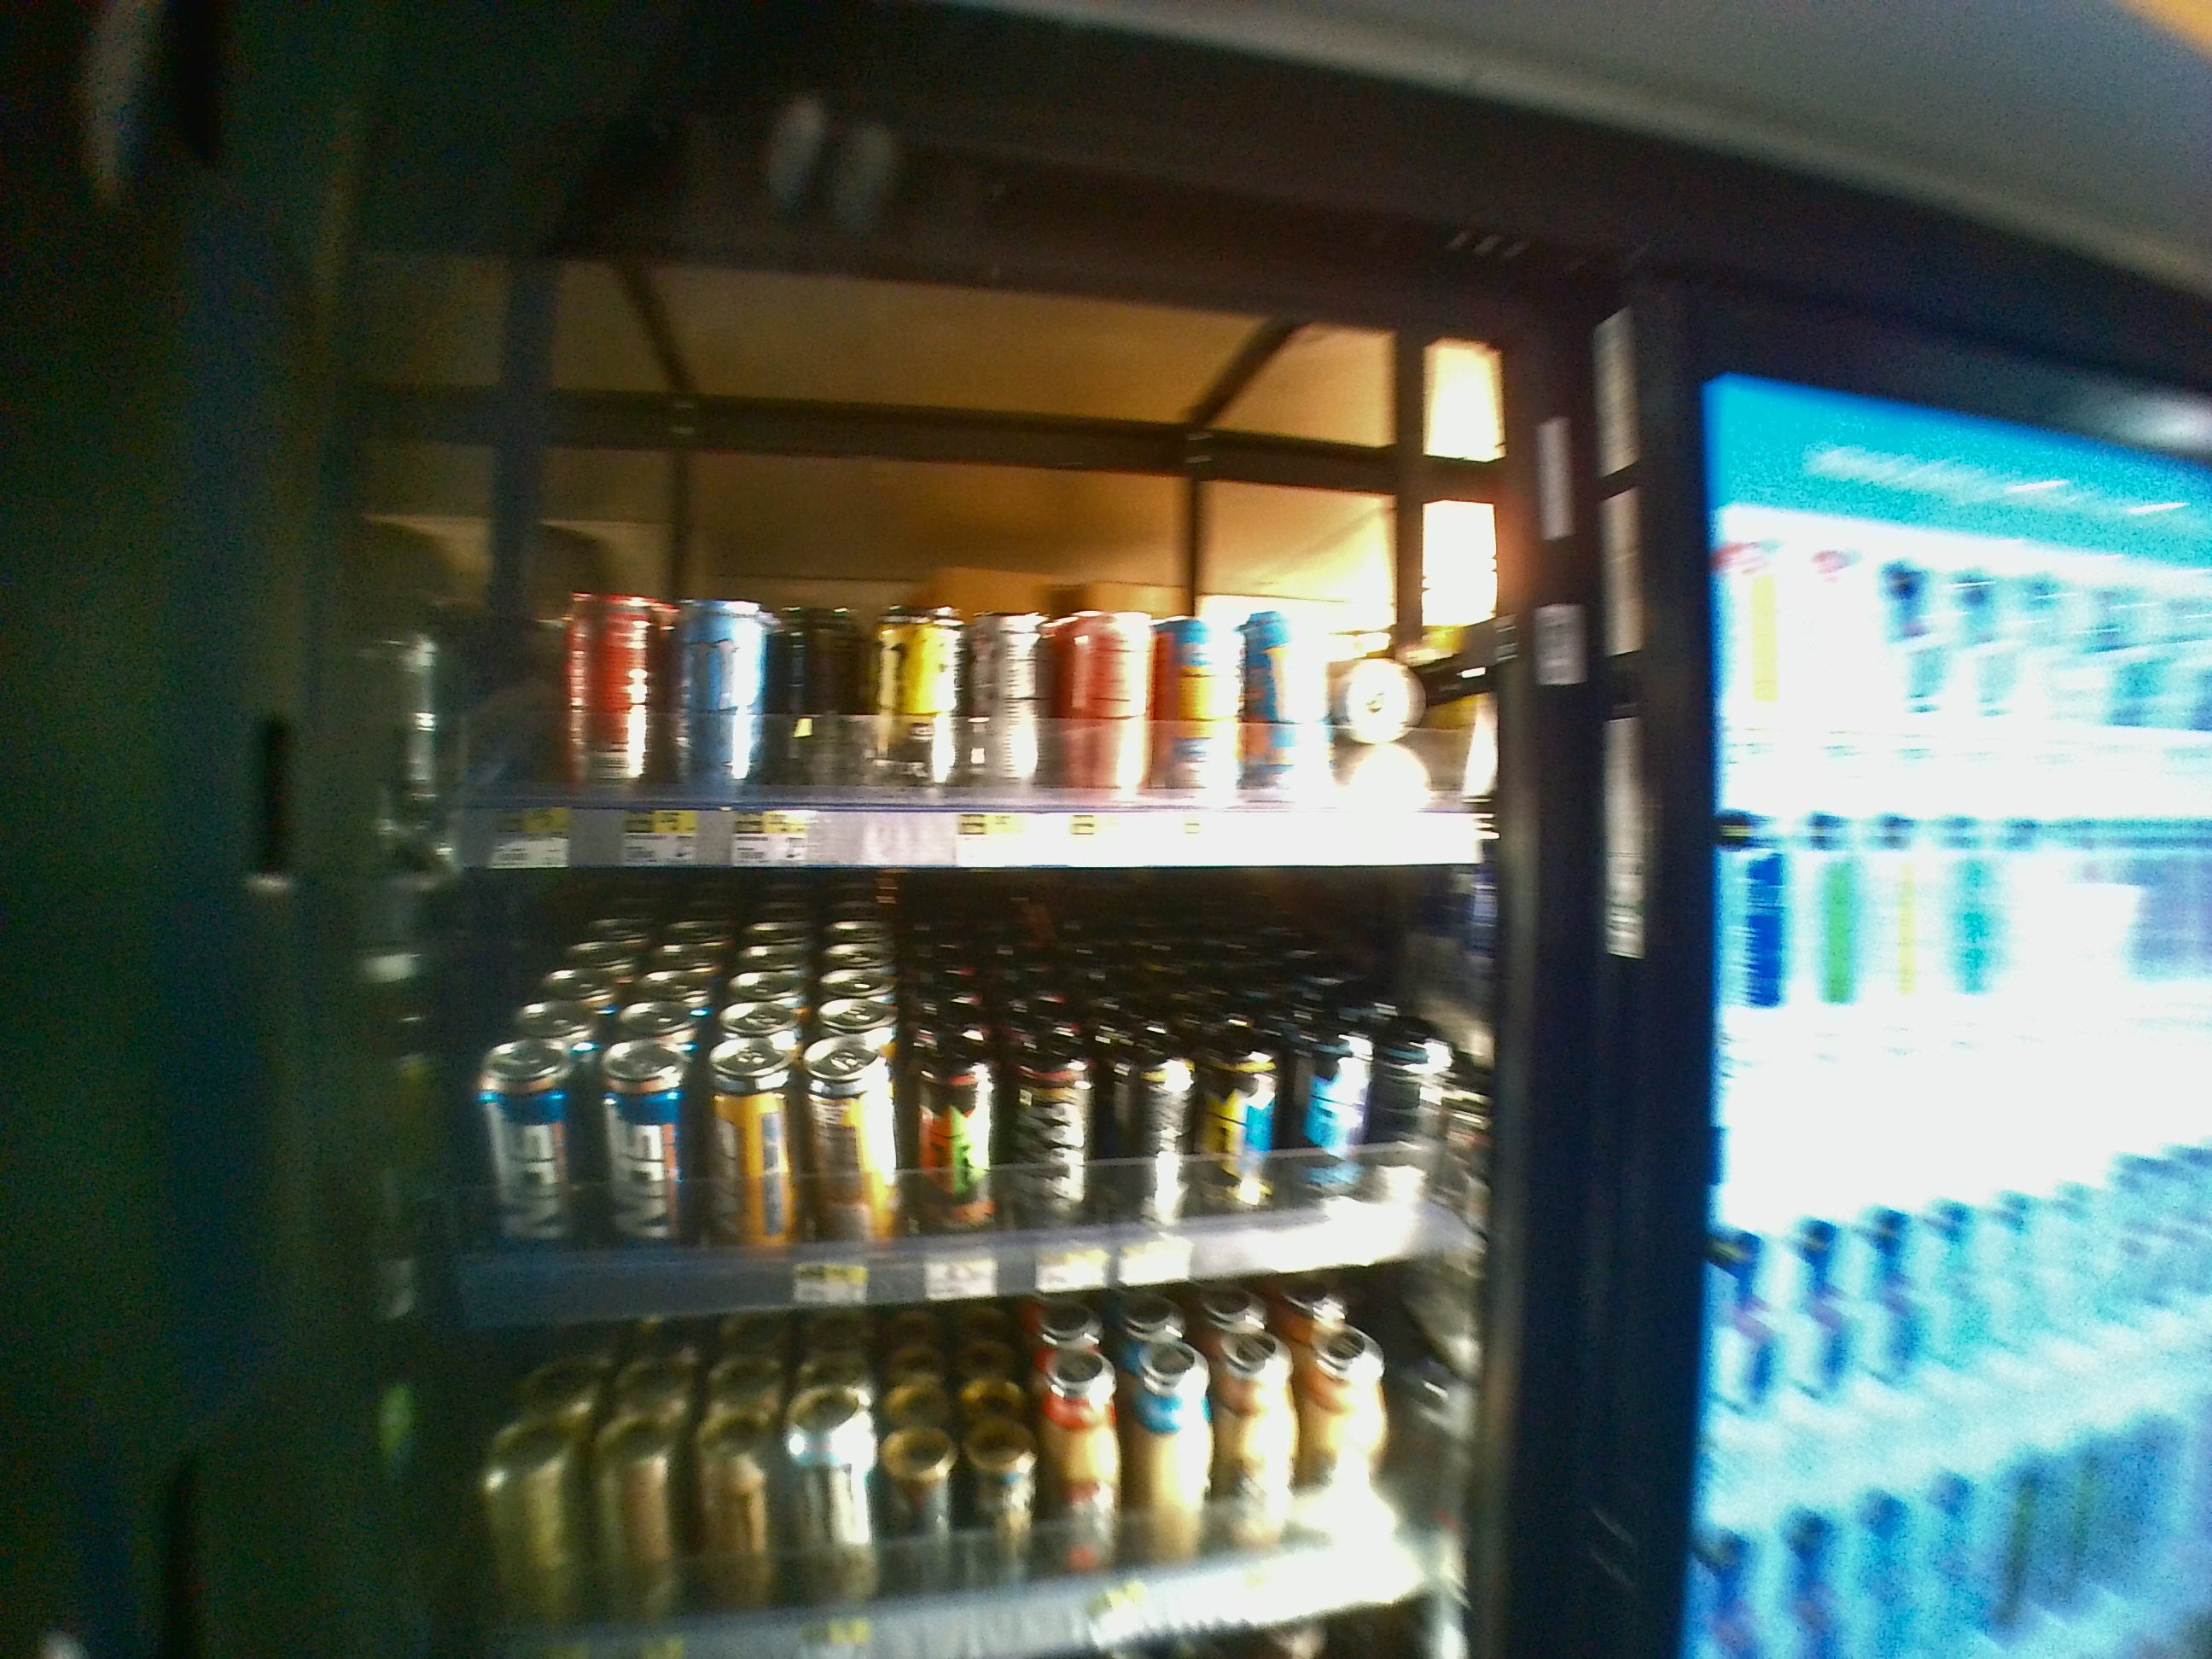shelf: (354, 288, 1510, 868), (348, 864, 1512, 1297)
